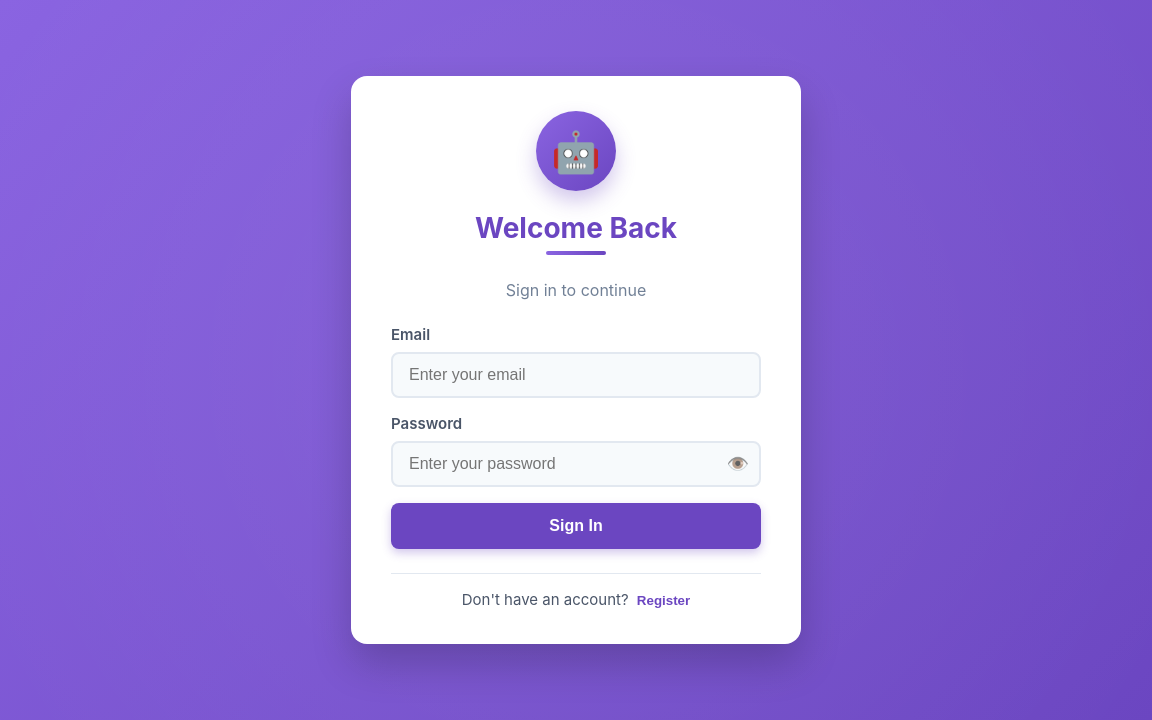
Login Component › switches between login and register forms
This screenshot has width=1152, height=720.
Expected: the field labelled "username" is not shown
// Switch to register mode
Click the button "Register" at (664, 600), box [637,593,690,608]
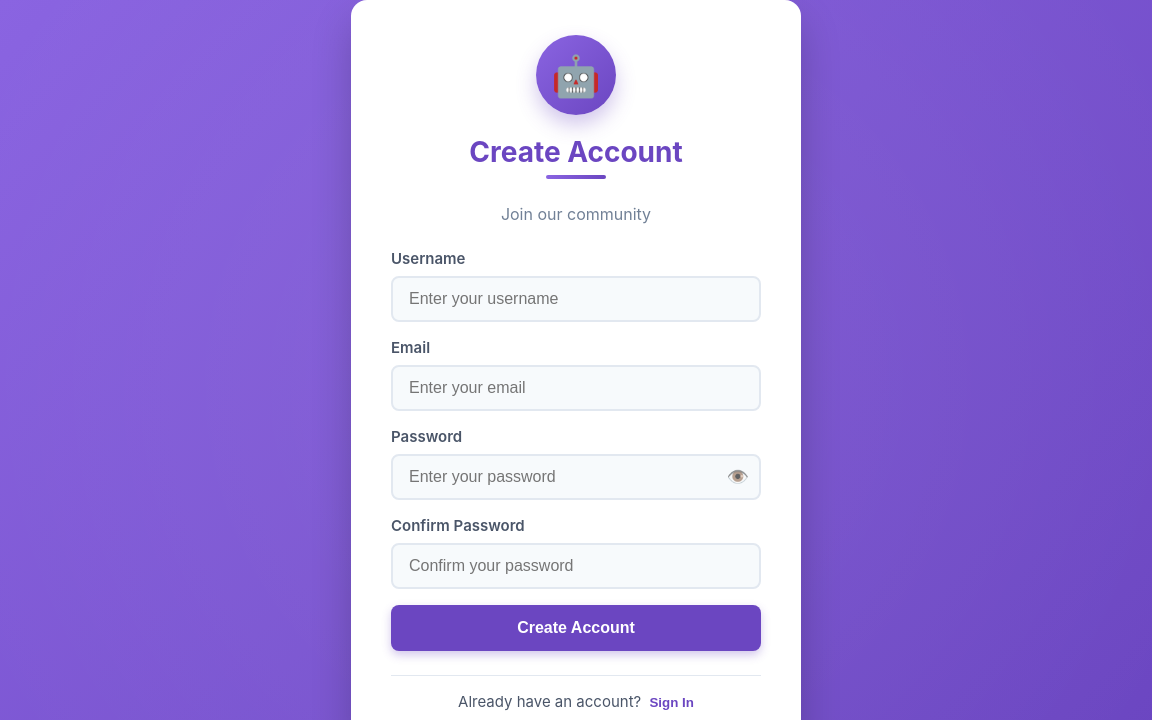
Now the field labelled "Username" is shown, box [391,276,761,322]
Now the password field labelled "Confirm Password" is shown, box [391,543,761,589]
// Switch back to login
Click the button "Sign In" at (672, 702), box [650,695,694,710]
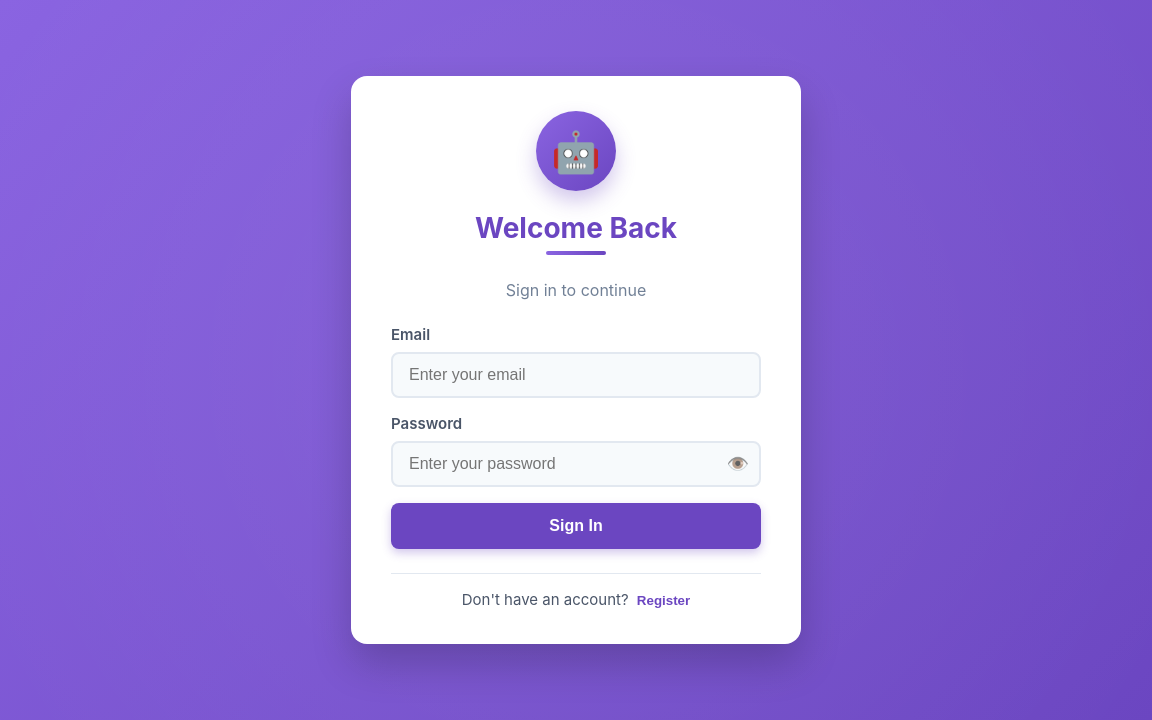
Now the label labelled "Username" is gone
Now the label labelled "Confirm Password" is gone
